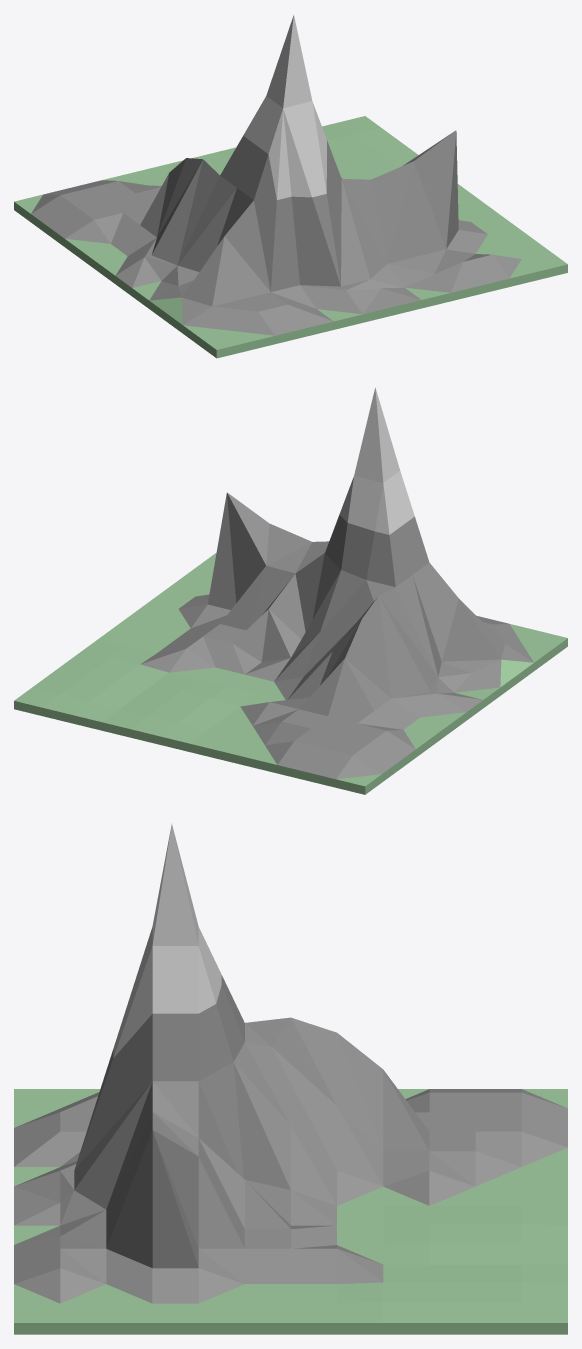
Rendered from Mountain II.fbx.
3 views of the same model, one above another, from view 1: azimuth 30°, elevation 25°; view 2: azimuth 150°, elevation 25°; view 3: azimuth 270°, elevation 25° (orthographic). The views are drawn at different scales.
Parts seen in each view (by area): view 1: Mountain II; view 2: Mountain II; view 3: Mountain II.
Boxes of the visible parts, <box> form: Mountain II: <box>14,15,567,358</box>; Mountain II: <box>14,387,567,794</box>; Mountain II: <box>14,823,567,1334</box>.
Bounding box in the file's own units: 1600 × 1170 × 1600.
